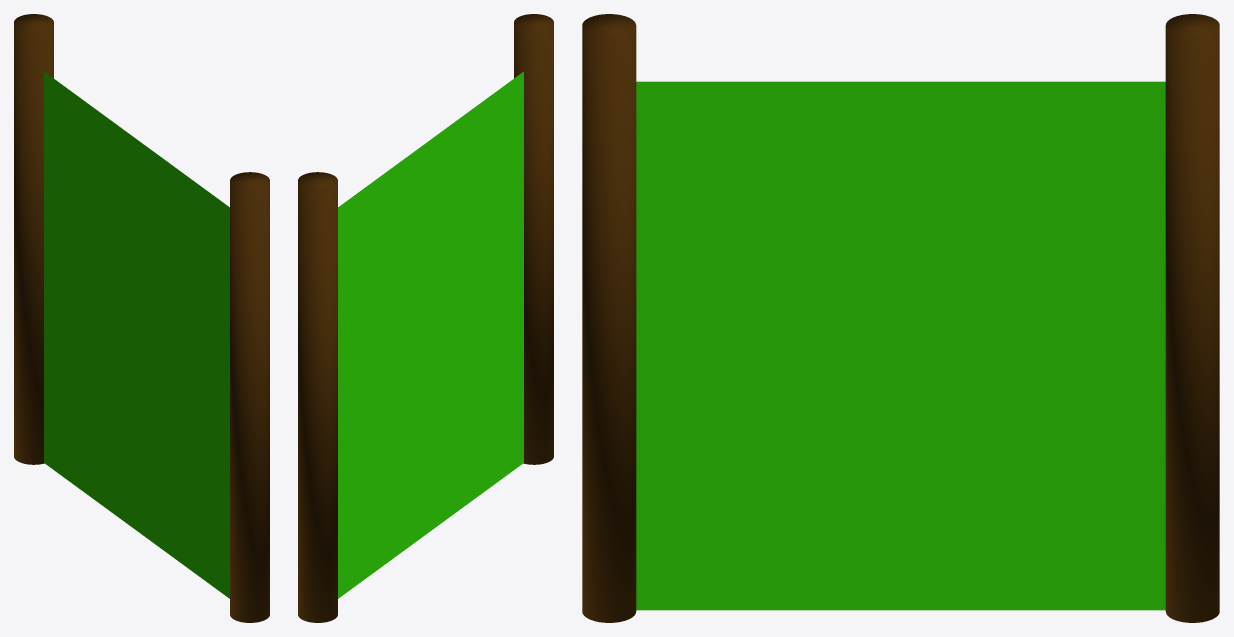
Rendered from Wrath.fbx.
The picture shows the model from 3 angles, left to right: view 1: azimuth 30°, elevation 25°; view 2: azimuth 150°, elevation 25°; view 3: azimuth 270°, elevation 25°; orthographic projection. The views are drawn at different scales.
Parts seen in each view (by area): view 1: Plane; view 2: Plane; view 3: Plane.
Part boxes in pixels (box(x1,y1,x2,y2)): Plane: box(14, 14, 269, 622); Plane: box(298, 14, 553, 622); Plane: box(582, 14, 1219, 622).
Size of the model in its own units: 0.0702 by 0.8401 by 0.8283.
